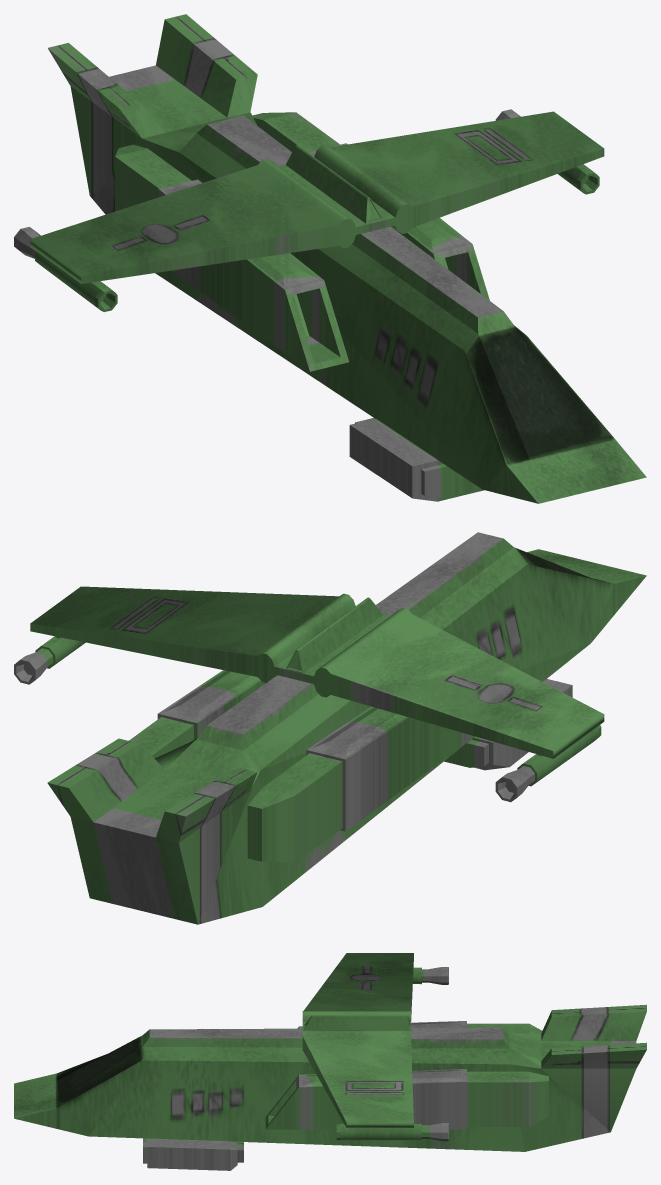
The model's file is Artillery Team 1.FBX.
3 views of the same model, one above another, from view 1: azimuth 30°, elevation 25°; view 2: azimuth 150°, elevation 25°; view 3: azimuth 270°, elevation 25° (orthographic). The views are drawn at different scales.
Parts seen in each view (by area): view 1: artillery:Box001; view 2: artillery:Box001; view 3: artillery:Box001.
Boxes of the visible parts, x1=… form: artillery:Box001: x1=14, y1=14, x2=646, y2=503; artillery:Box001: x1=14, y1=532, x2=646, y2=924; artillery:Box001: x1=14, y1=953, x2=646, y2=1170.
Bounding box in the file's own units: 224 × 83.52 × 353.
Materials: 1 (1 with a texture image).
